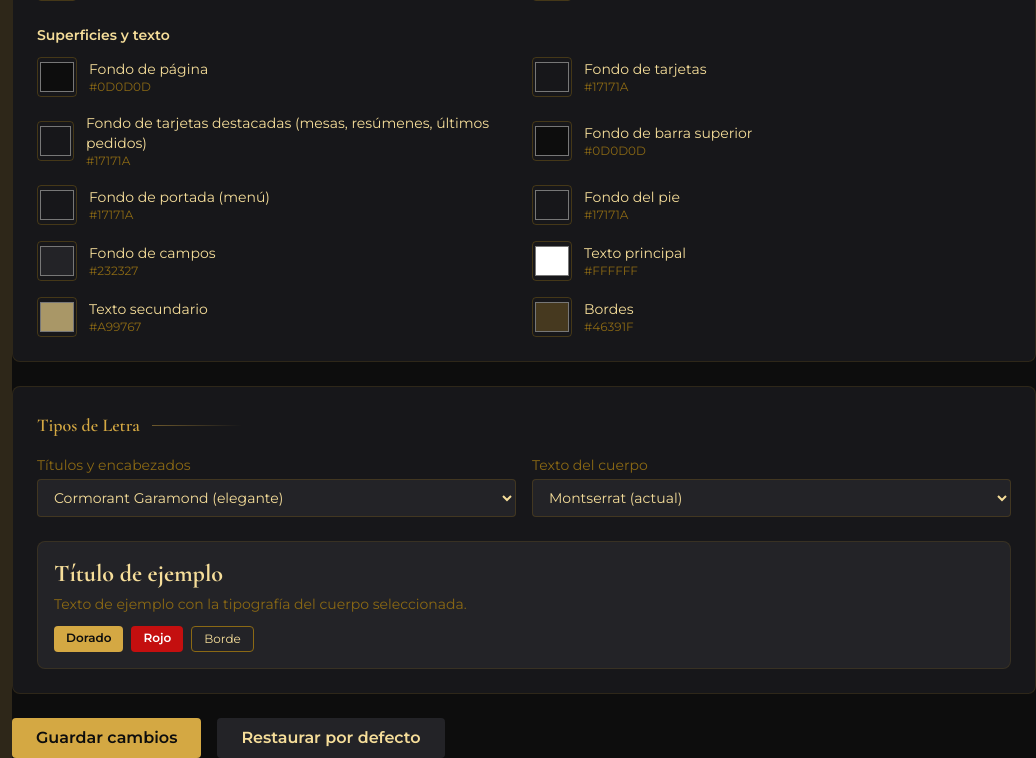
Scenario: restaura valores por defecto tras confirmar
(page scrolled)
Click the button "Restaurar por defecto" at (331,738), box [217,718,445,757]
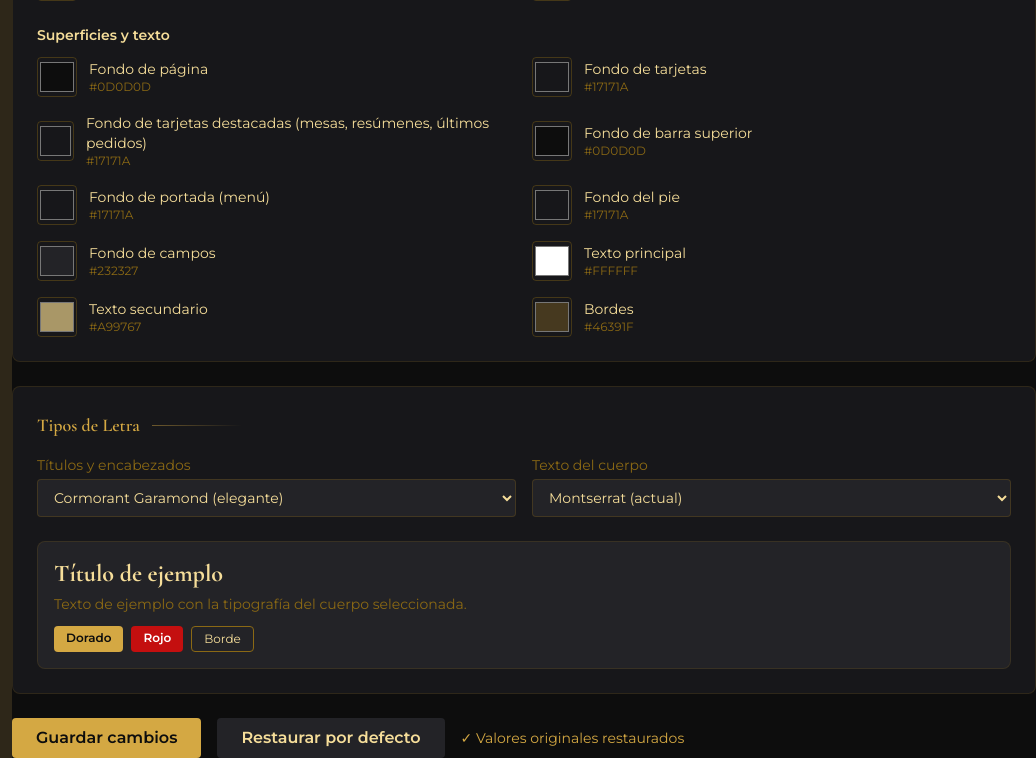
Check: the text "✓ Valores originales restaurados" is shown, box [461,728,684,748]
